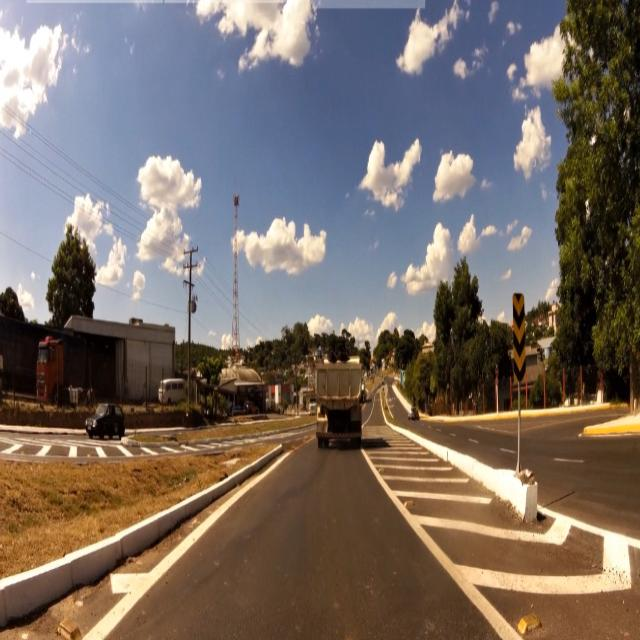MP: (514, 290, 529, 382)
